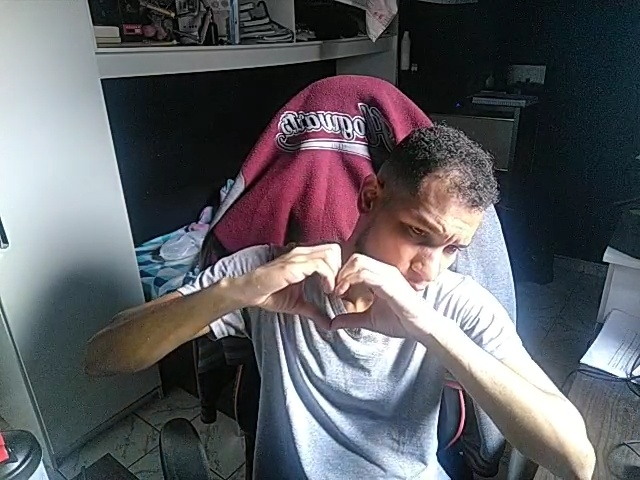eu_te_amo: (244, 238, 393, 341)
